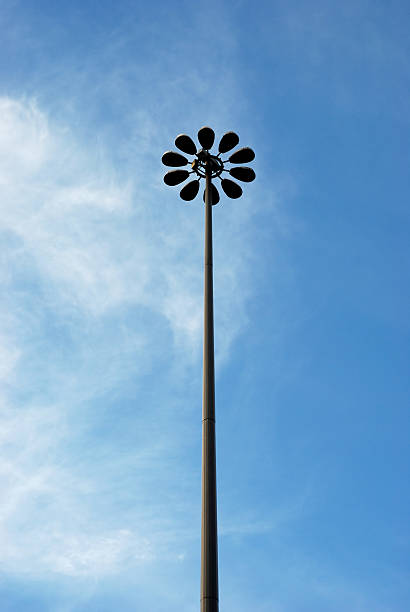light_pole: (194, 210, 223, 612)
